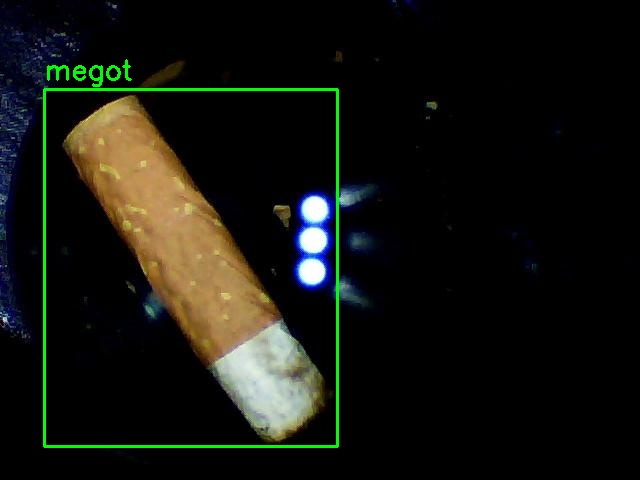megot: (44, 89, 337, 446)
